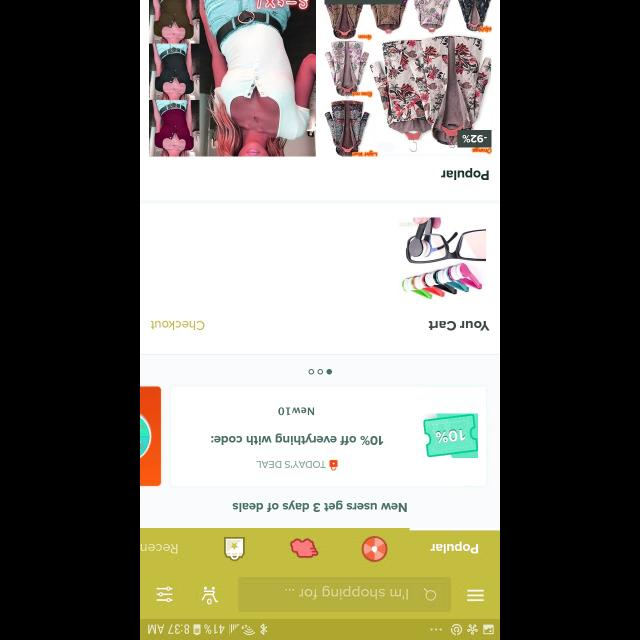icon: (223, 537, 244, 561), (202, 586, 218, 604), (156, 586, 172, 602), (466, 589, 484, 601), (424, 588, 436, 600), (329, 460, 337, 470)
image: (324, 0, 492, 156), (148, 0, 316, 156), (398, 217, 486, 299), (423, 414, 477, 458), (140, 386, 162, 486), (362, 535, 386, 561), (290, 538, 318, 558)
input: (238, 576, 450, 612)
pageindicator: (308, 369, 332, 375)
text: (232, 500, 408, 512), (210, 433, 384, 445), (284, 585, 408, 599), (430, 540, 478, 554), (428, 321, 489, 331), (440, 168, 488, 180), (256, 460, 326, 468), (151, 320, 205, 330), (140, 543, 178, 553), (278, 406, 314, 416)
uppertaskbar: (140, 618, 500, 640)
